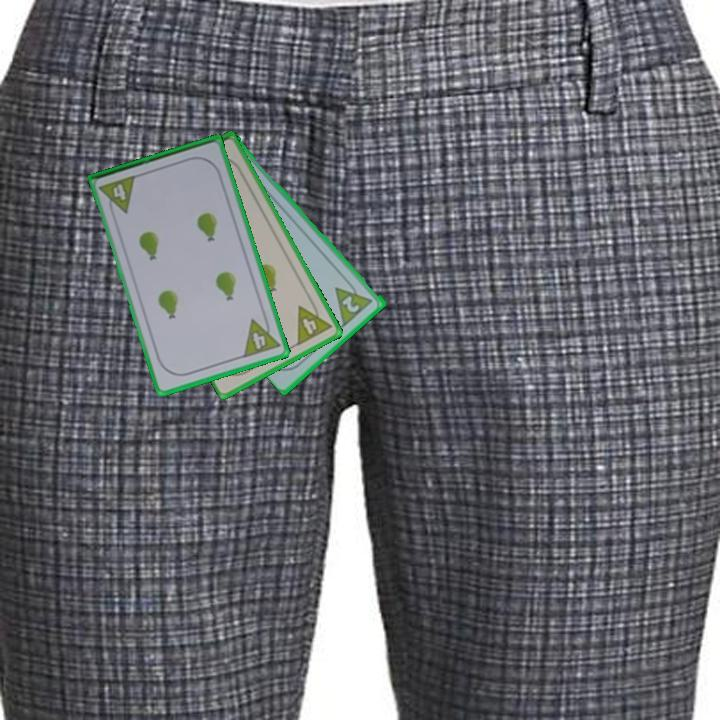2p: (339, 292, 363, 316)
4p: (239, 312, 283, 361), (294, 296, 335, 348), (96, 172, 139, 219)
